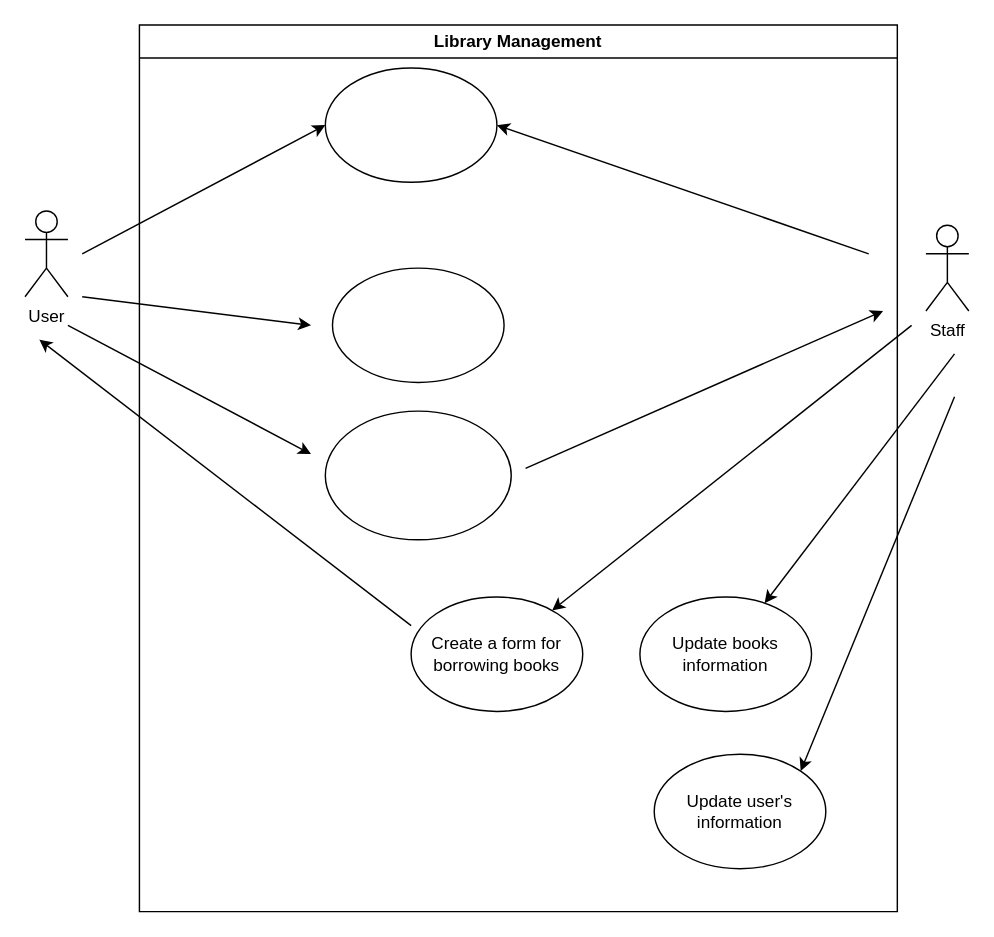
The diagram is 994 pixels wide and 937 high, and some of its shapes have lost their labels. The shapes that lost their labels are listed below. From the top down, each one's centre as x and y in pixels, then its label:
At point (410, 124): "Login".
At point (417, 325): "Search for different type of books".
At point (417, 475): "Request borrow some different type of books".
